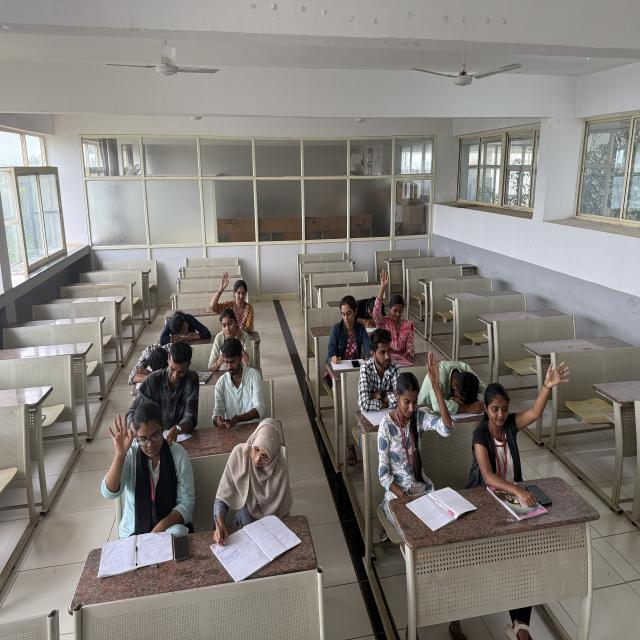Hand Rising: (469, 336, 578, 476), (88, 398, 174, 562), (378, 335, 450, 457), (209, 248, 259, 334), (376, 264, 421, 340)
Sleeping: (435, 335, 493, 422), (124, 333, 178, 392), (157, 302, 214, 347), (352, 294, 388, 339)
Using Phone: (211, 339, 274, 435), (204, 304, 259, 371)
Writing: (210, 429, 304, 571), (324, 282, 353, 381)
